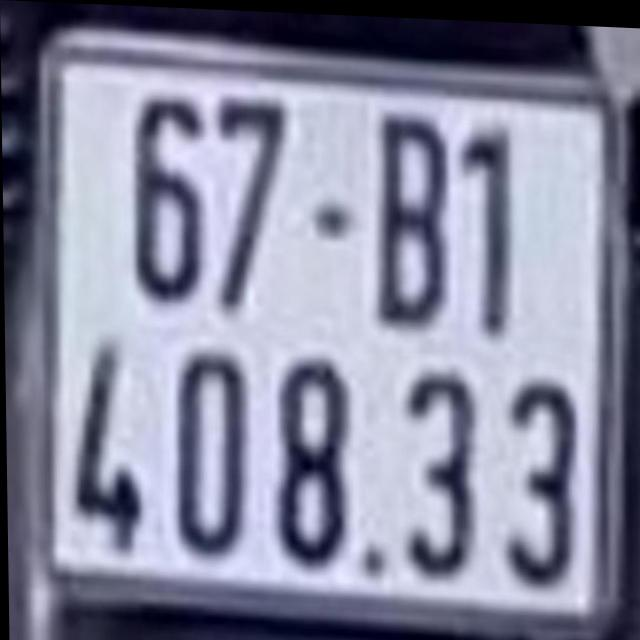0: (175, 347, 245, 549)
1: (460, 120, 520, 334)
3: (509, 364, 575, 585), (405, 364, 472, 572)
4: (69, 347, 145, 554)
6: (129, 92, 205, 299)
7: (209, 92, 294, 303)
8: (275, 354, 346, 561)
B: (382, 109, 449, 323)
